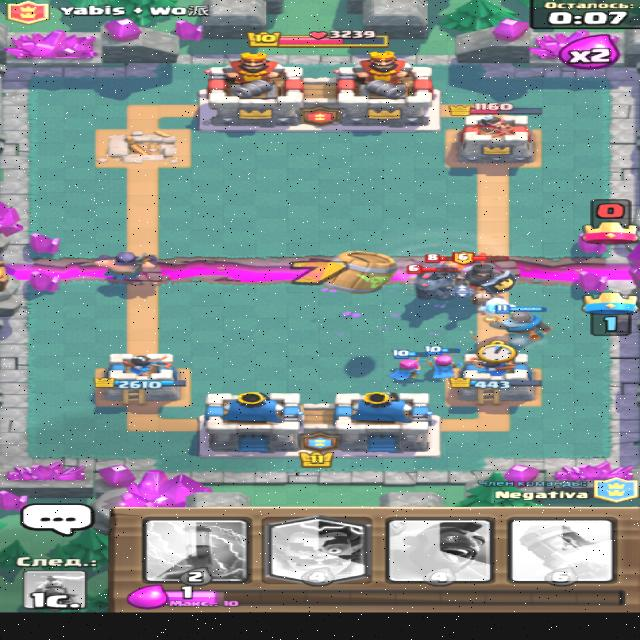Enemy-DarkPrince: (450, 249, 516, 298)
Enemy-PEKKA: (404, 264, 462, 301)
Enemy-Valkyrie: (423, 253, 463, 268)
Player-Archer: (382, 348, 428, 382), (423, 344, 463, 379)
Player-Executioner: (90, 250, 158, 280)
Player-GoblinBarrel: (315, 250, 397, 294)
Player-IceSpirit: (476, 296, 514, 311)
Player-Knight: (474, 304, 555, 340)
